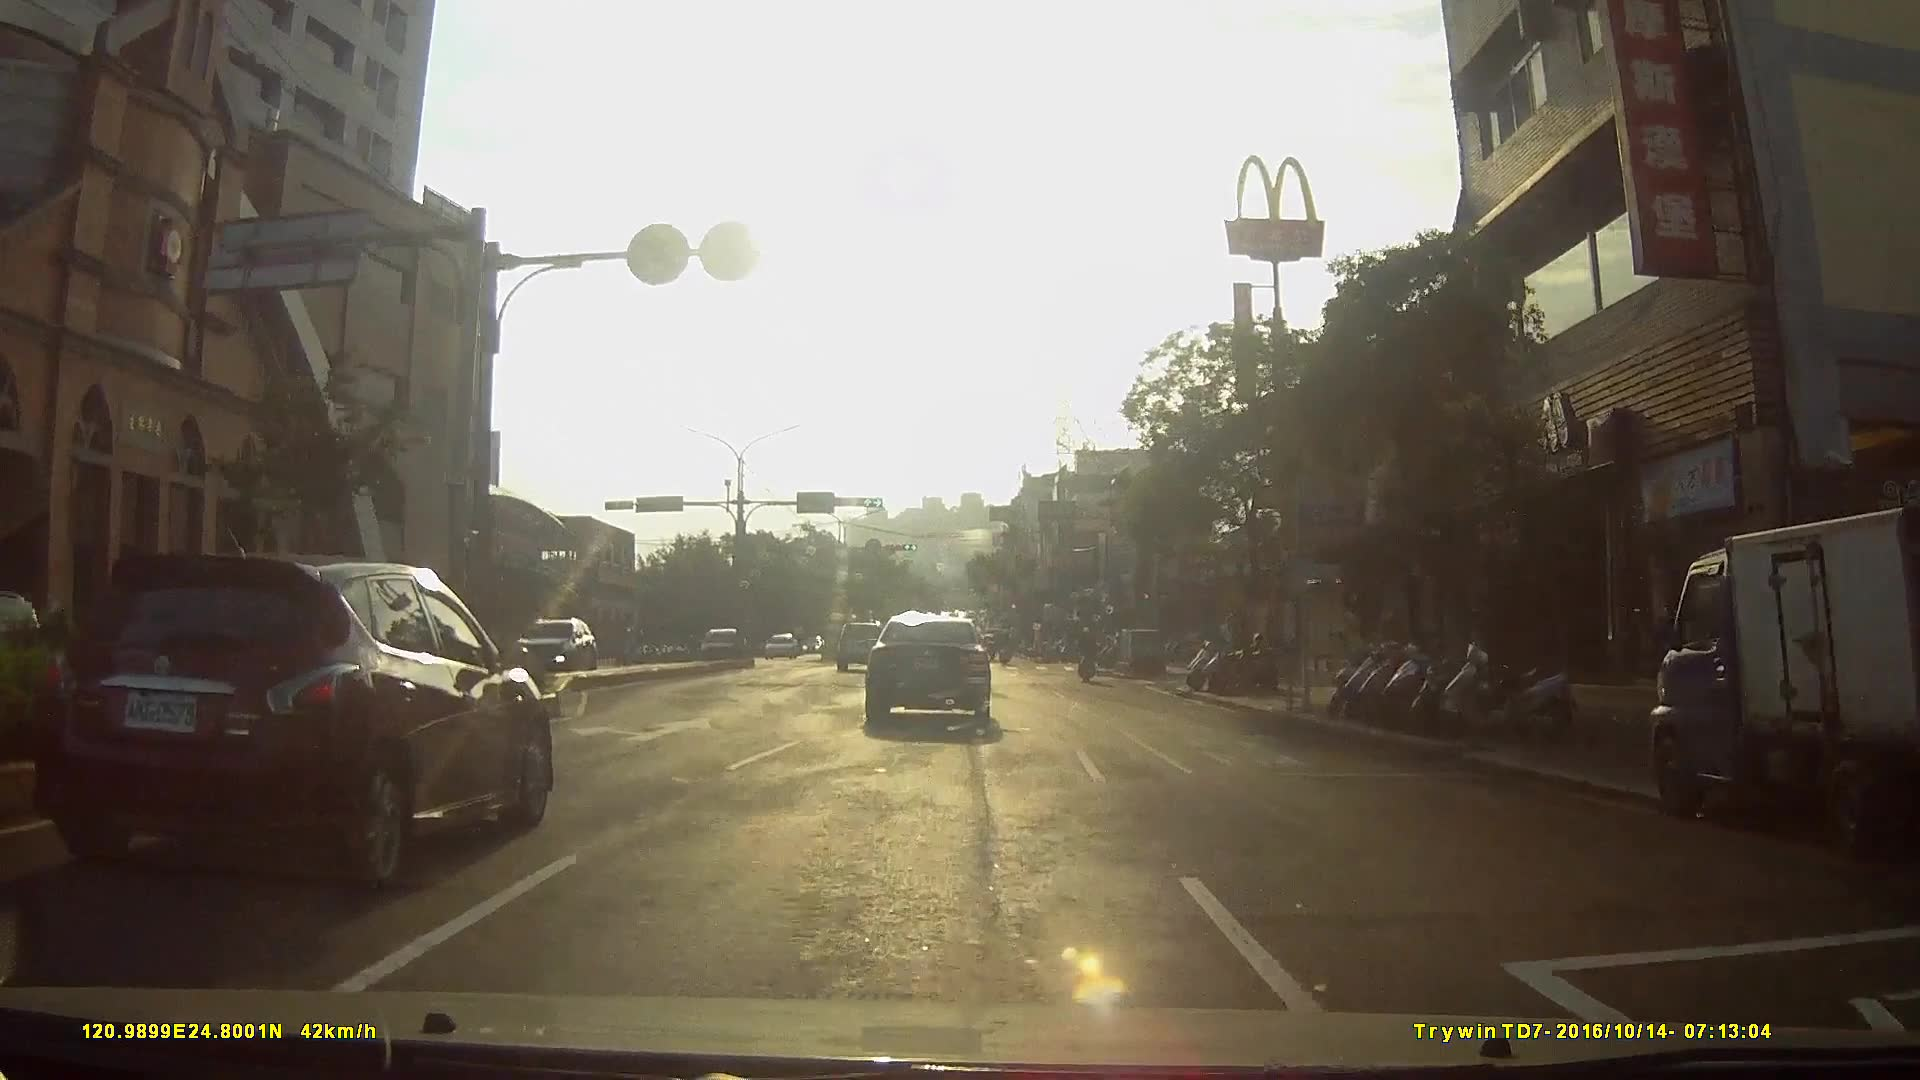rider: (1074, 624, 1099, 686)
vehicle: (30, 545, 562, 894), (1641, 510, 1920, 842), (855, 611, 998, 736), (495, 613, 595, 679), (831, 619, 888, 674), (689, 626, 748, 666), (762, 632, 800, 663)
